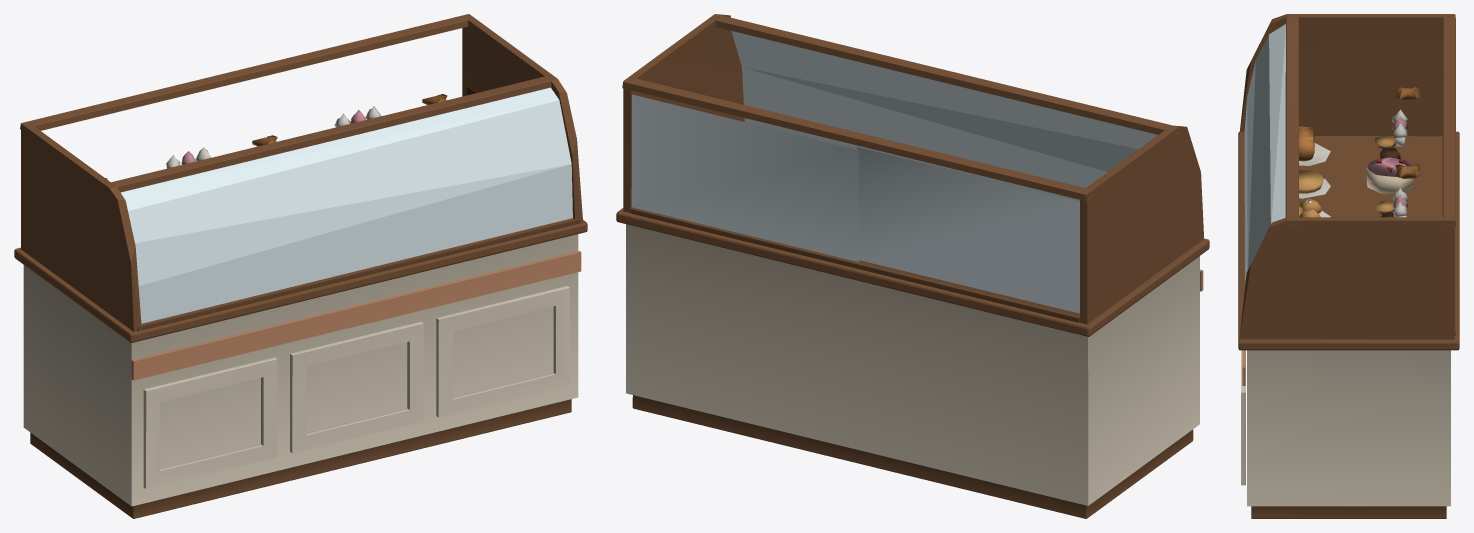
Rendered from bakeryCase.far.glb.
The picture shows the model from 3 angles, left to right: view 1: azimuth 30°, elevation 25°; view 2: azimuth 150°, elevation 25°; view 3: azimuth 270°, elevation 25°; orthographic projection. The views are drawn at different scales.
Parts seen in each view (by area): view 1: bakeryCase_far; view 2: bakeryCase_far; view 3: bakeryCase_far.
Part boxes in pixels (x1,y1,x2,y2): bakeryCase_far: (14,14,587,518); bakeryCase_far: (616,14,1209,518); bakeryCase_far: (1238,14,1459,518).
Size of the model in its own units: 1.94 by 1.29 by 0.86.
